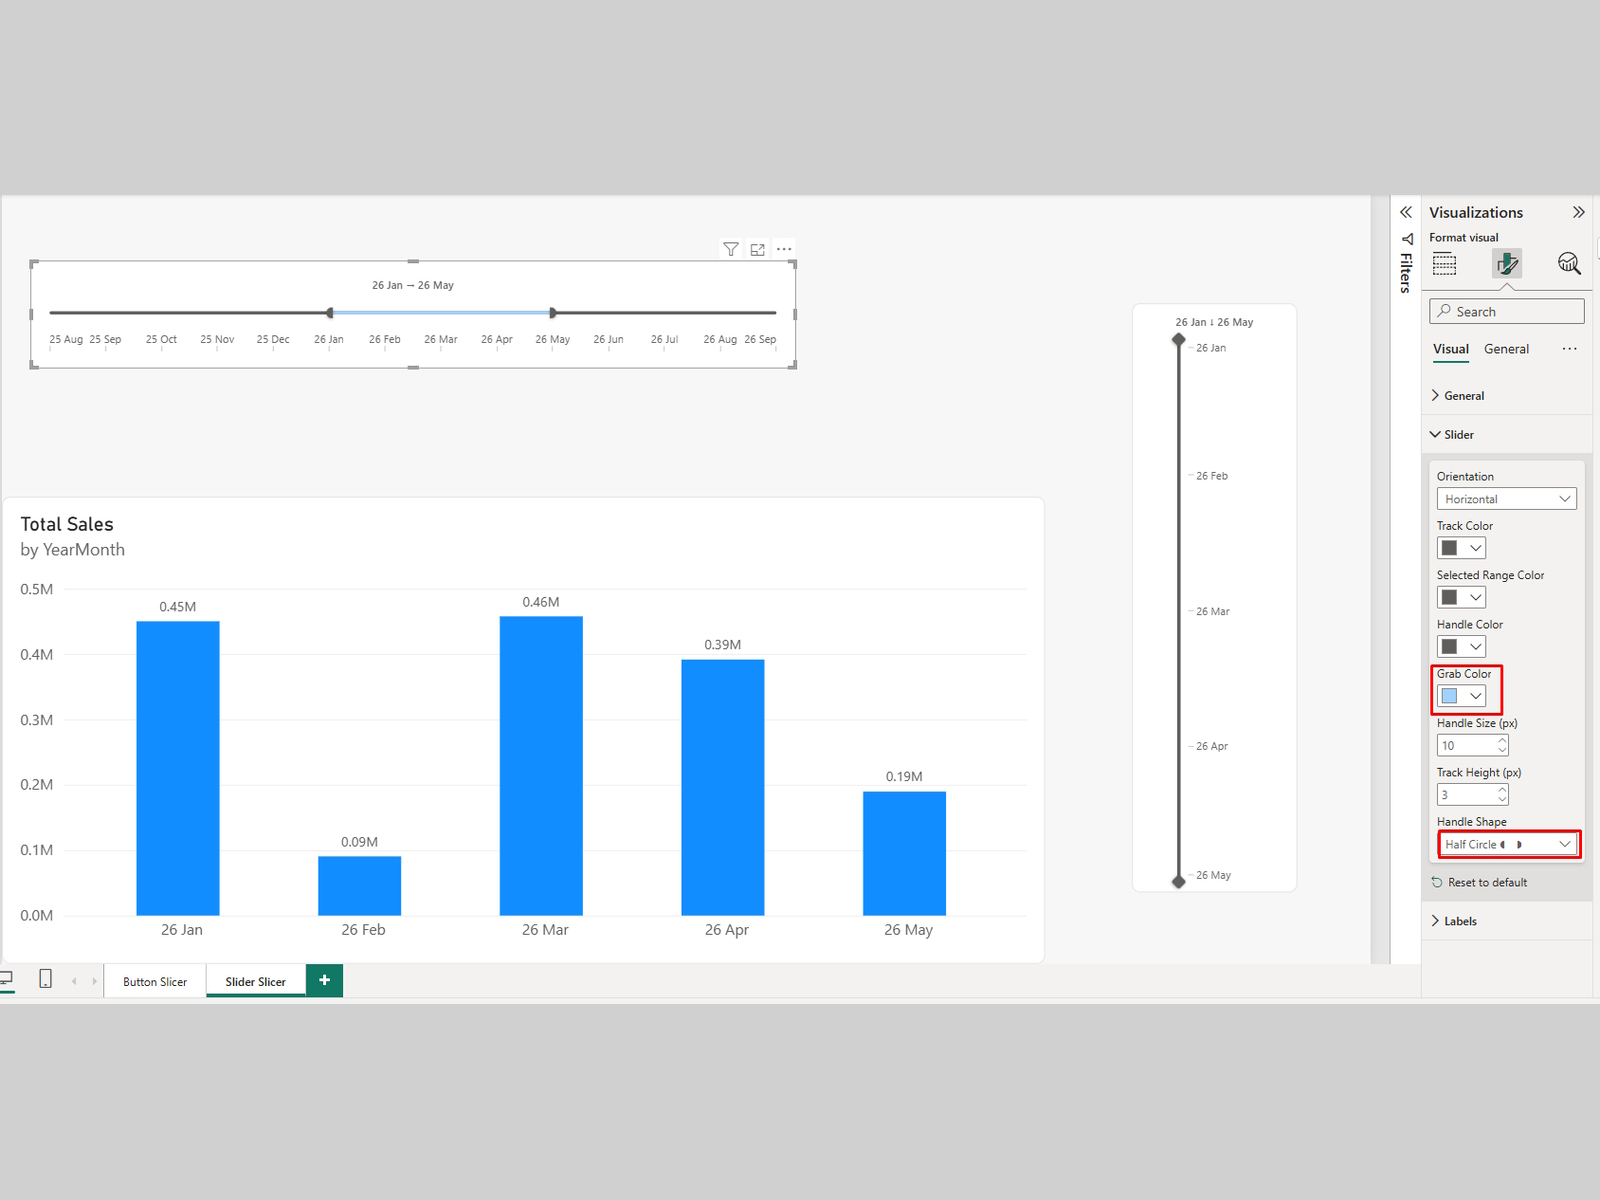

Layout of this report page (visuals, bound fields, positions):
{"tool":"powerbi","page":{"name":"Slider Slicer","canvas":[1280,720],"ordinal":1},"visuals":[{"type":"columnChart","fields":{"Category":["DimDate.YearMonth"],"Y":["FactSales.Total Sales"]},"box":[0,283,975.6,436.7],"z":0},{"type":"buttonSliderF1A2B3C4D5E6F7A8B9C0D1E2F3A4B5C6","fields":{"category":["DimDate.YearMonth"]},"box":[26.6,62.1,716.5,101.1],"z":1000},{"type":"buttonSliderF1A2B3C4D5E6F7A8B9C0D1E2F3A4B5C6","fields":{"category":["DimDate.YearMonth"]},"box":[1057.3,102.1,154.7,550.5],"z":1001}]}

Visuals, with their boxes on the page's 1280x720 design canvas (x1, y1, x2, y2). These are canvas units, not pixel positions in the 1600x1200 screenshot, which may show the page scaled, cropped or inside an application window:
columnChart - DimDate.YearMonth x FactSales.Total Sales: locate(0, 283, 976, 720)
buttonSliderF1A2B3C4D5E6F7A8B9C0D1E2F3A4B5C6 - DimDate.YearMonth: locate(27, 62, 743, 163)
buttonSliderF1A2B3C4D5E6F7A8B9C0D1E2F3A4B5C6 - DimDate.YearMonth: locate(1057, 102, 1212, 653)
